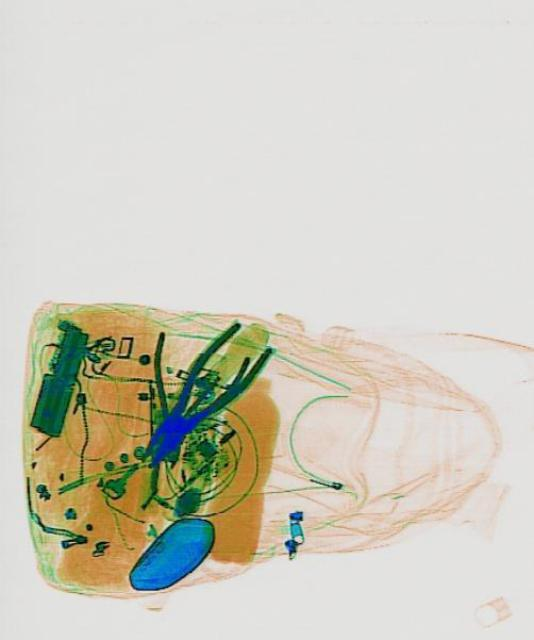Pliers: (125, 309, 274, 486), (114, 316, 249, 478)
